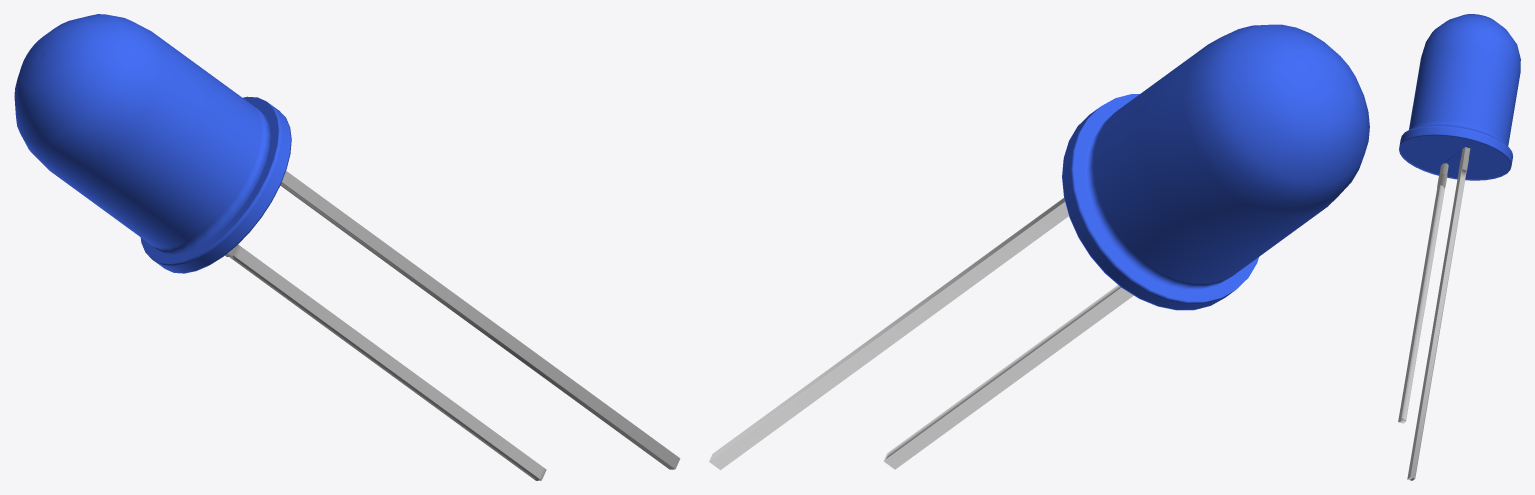
The model's file is maiz.glb.
3 views of the same model, side by side, from view 1: azimuth 30°, elevation 25°; view 2: azimuth 150°, elevation 25°; view 3: azimuth 270°, elevation 25° (orthographic). The views are drawn at different scales.
Visible parts, largest first — view 1: Cylinder; view 2: Cylinder; view 3: Cylinder.
Part boxes in pixels (x1,y1,x2,y2): Cylinder: (14,14,680,480); Cylinder: (709,24,1369,469); Cylinder: (1398,14,1520,480).
Bounding box in the file's own units: 3.45 × 2.94 × 1.04.
